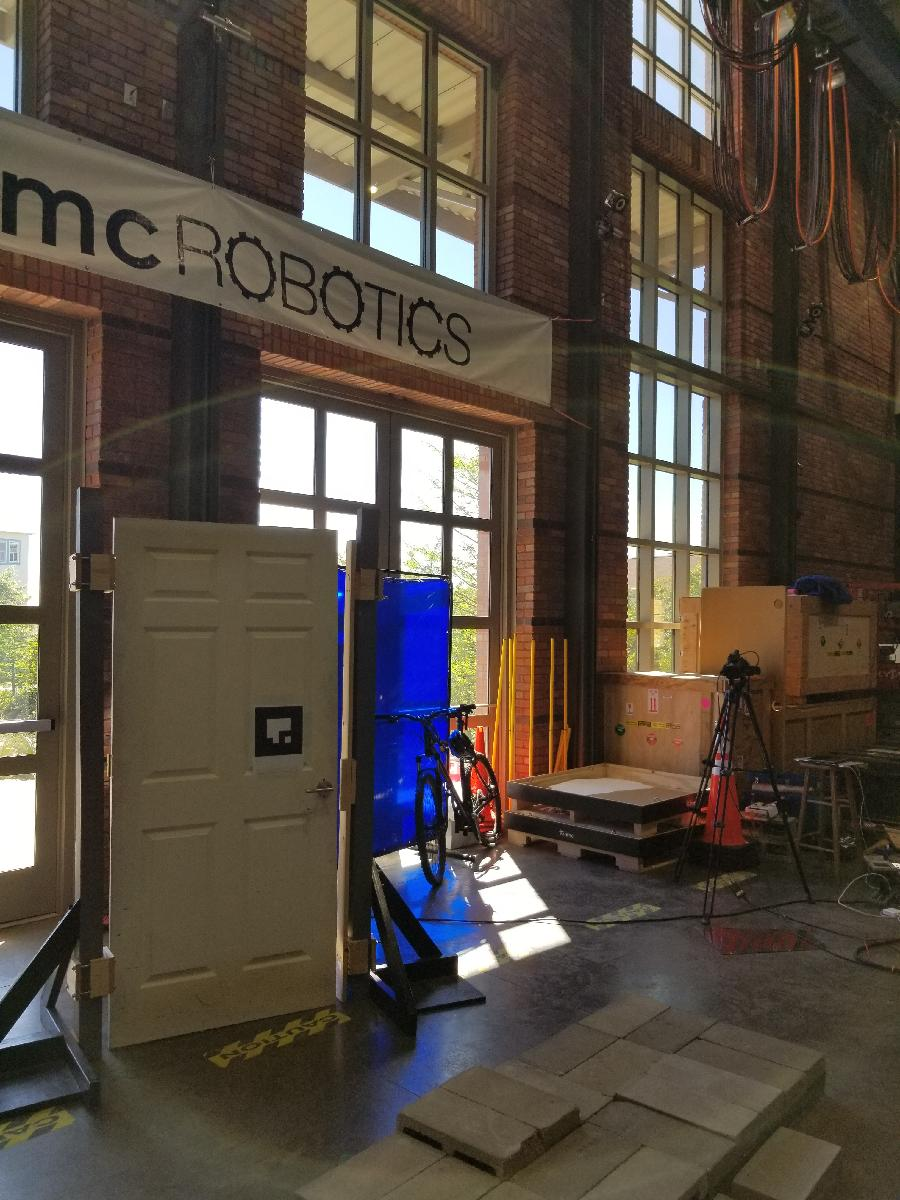door: (105, 512, 345, 1051)
doorHandle: (304, 775, 338, 805)
